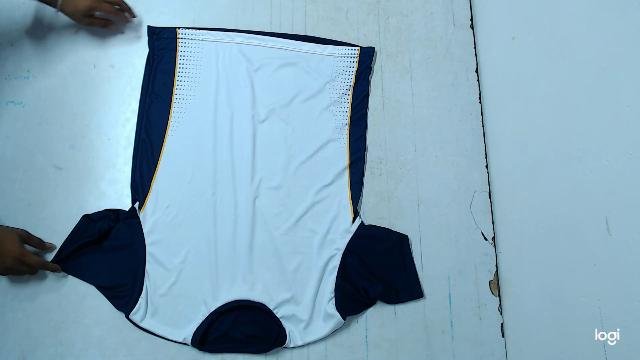new-garment: (52, 26, 423, 353)
